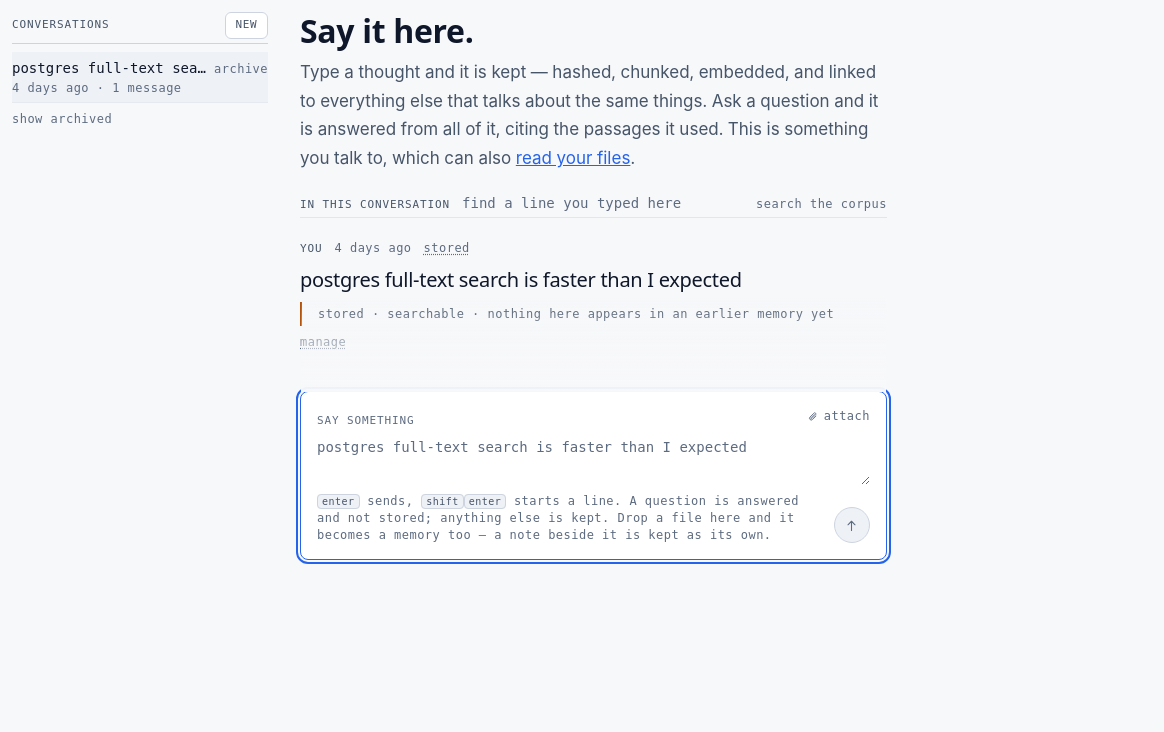
Scenario: managing a memory from the chat › tags a message, and says what the tag connected to
Step 1. Click the button "manage" → [323, 343], box [300,334,346,351]
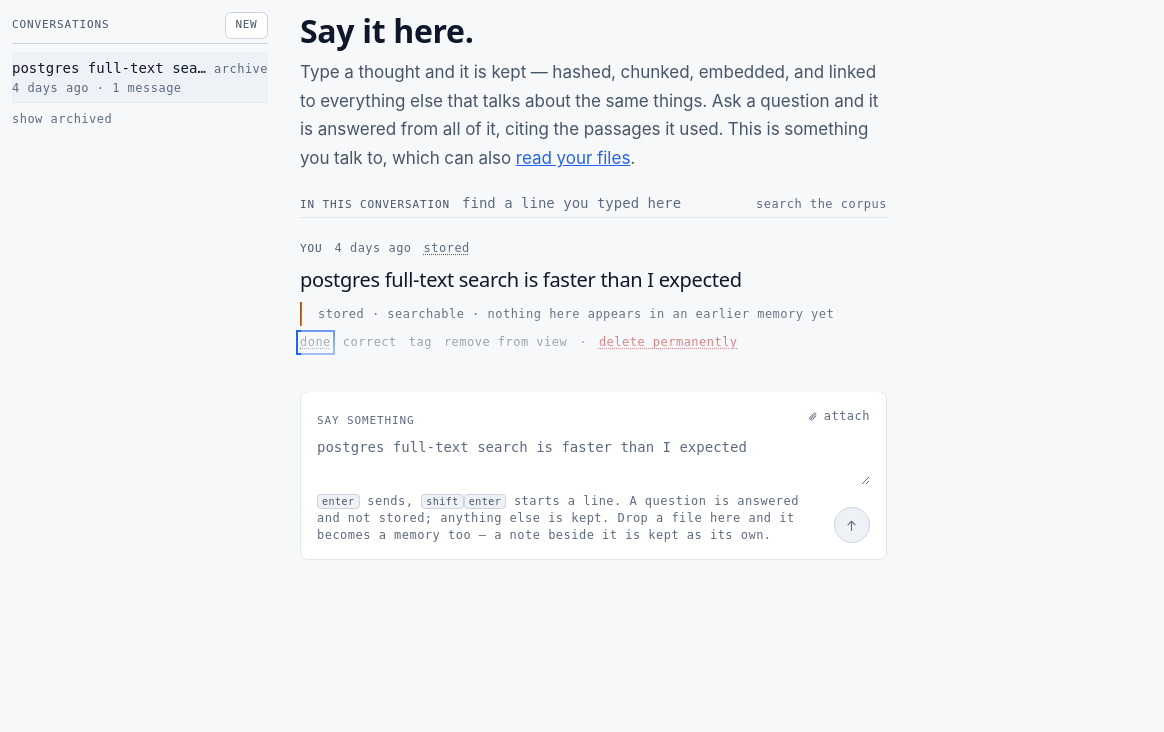
Step 2. Click the button "tag" → [420, 343], box [409,334,432,351]
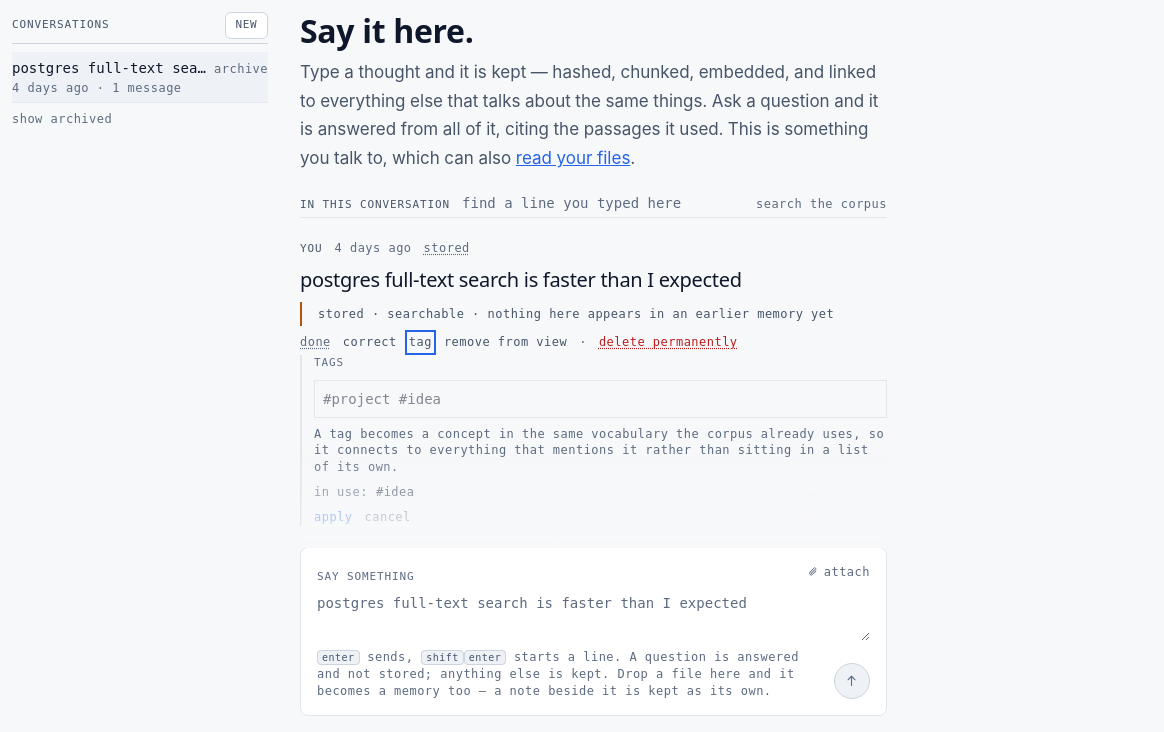
Step 3. Type "#postgres #idea" into the field labelled "tags" → [600, 399], box [314,380,887,418]
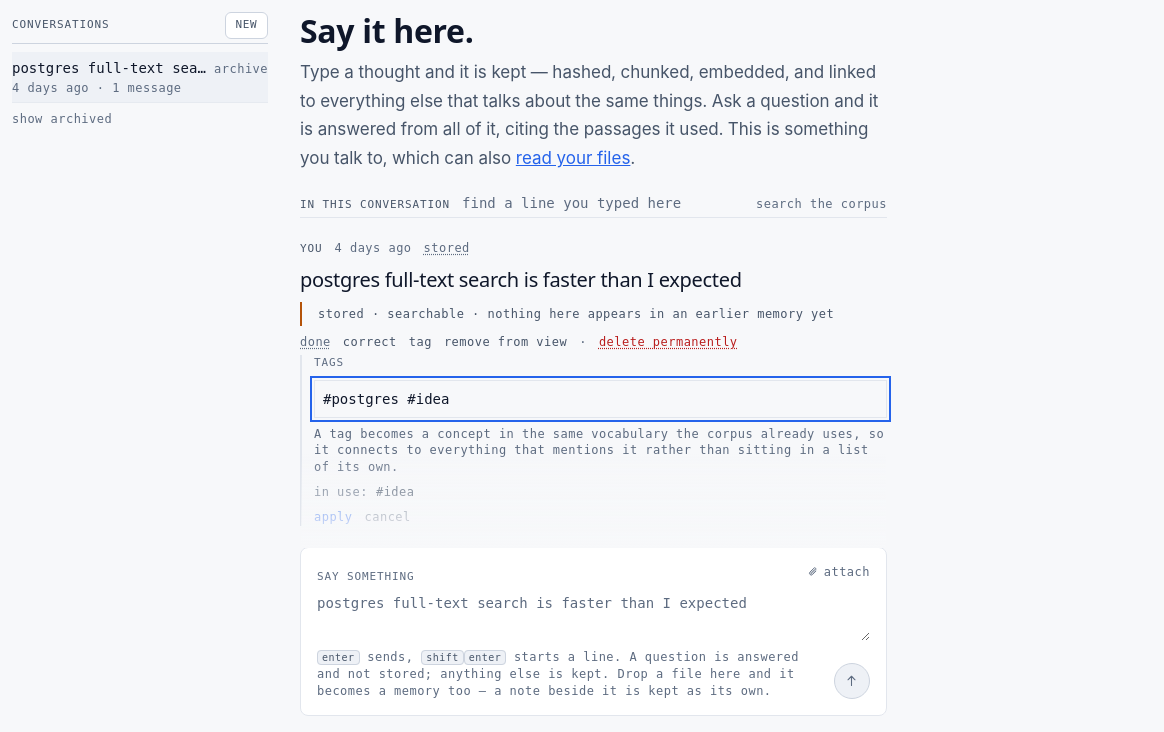
Step 4. Click the button "apply" → [333, 517], box [314,509,352,526]
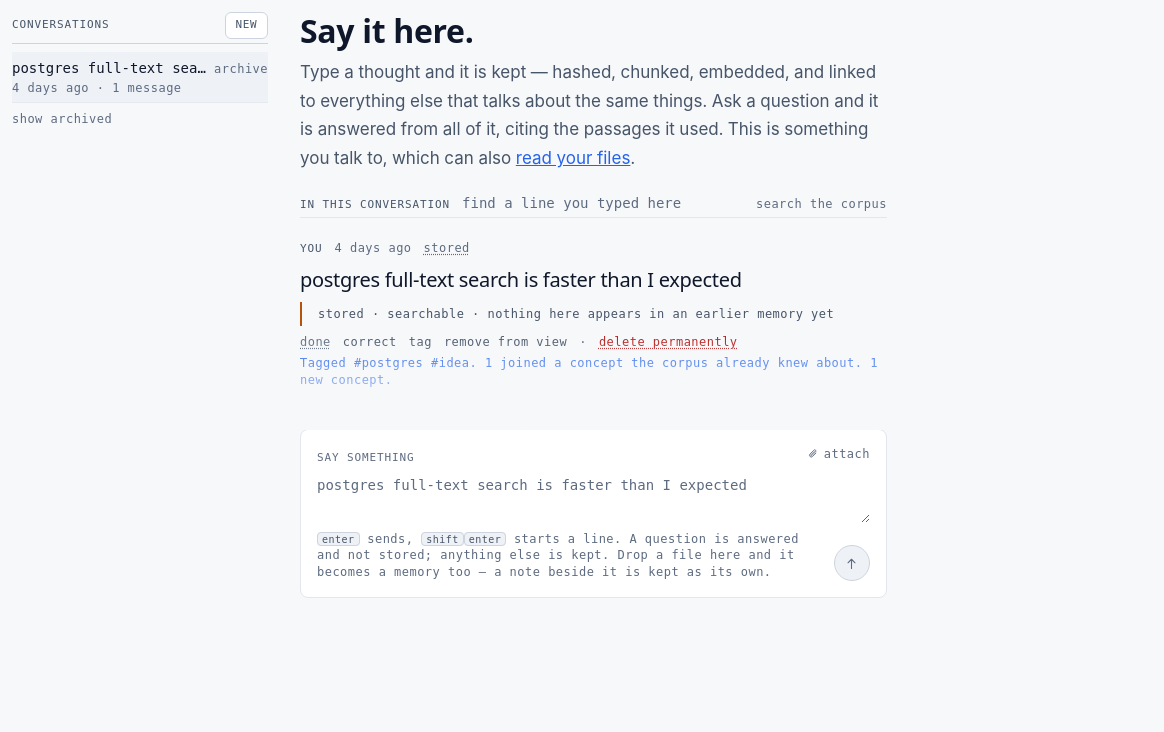
Result: the text "joined a concept the corpus already knew about" is shown at [300,356,878,387]
